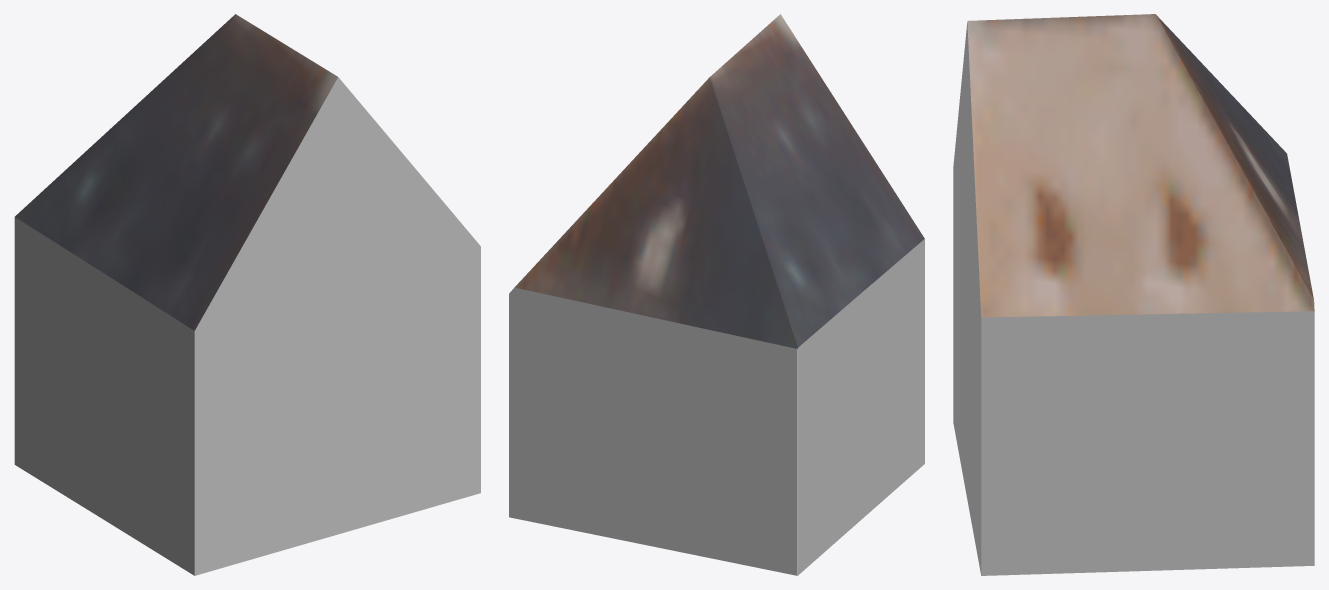
The model's file is DEBW_0010007Txcj.gltf.
The picture shows the model from 3 angles, left to right: view 1: azimuth 30°, elevation 25°; view 2: azimuth 150°, elevation 25°; view 3: azimuth 270°, elevation 25°; orthographic projection. The views are drawn at different scales.
Visible parts, largest first — view 1: Z_UP; view 2: Z_UP; view 3: Z_UP.
Part boxes in pixels (bbox=[...]): Z_UP: bbox=[14, 14, 480, 575]; Z_UP: bbox=[509, 14, 924, 575]; Z_UP: bbox=[953, 14, 1314, 575].
Bounding box in the file's own units: 10.02 × 13.67 × 9.34.
2 materials, 1 textured.
